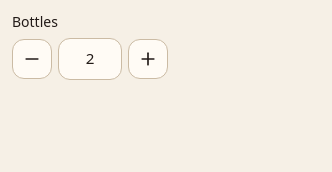
Test case: Stepper › increments and decrements with the buttons
Click the button named "Increase Bottles": (148, 59) x1=128 y1=39 x2=168 y2=79
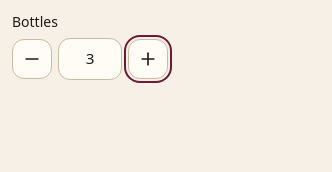
Expected: the number field labelled "Bottles" holds "3", x1=58 y1=38 x2=122 y2=80
Click the button named "Decrease Bottles": (32, 59) x1=12 y1=39 x2=52 y2=79
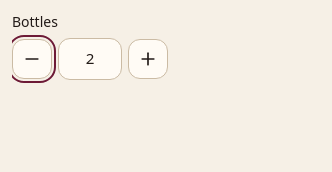
Click the button named "Decrease Bottles": (32, 59) x1=12 y1=39 x2=52 y2=79
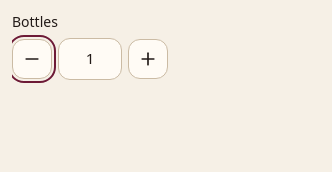
Expected: the number field labelled "Bottles" holds "1", x1=58 y1=38 x2=122 y2=80
